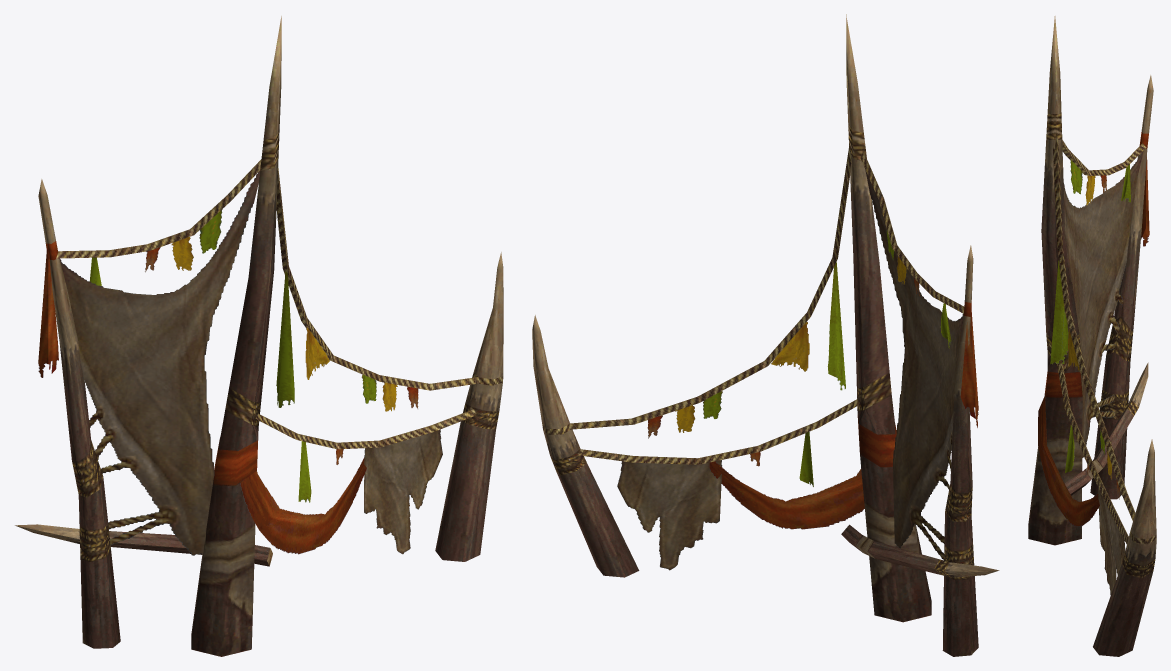
The model's file is 7001_Item_wujian_01.FBX.
The picture shows the model from 3 angles, left to right: view 1: azimuth 30°, elevation 25°; view 2: azimuth 150°, elevation 25°; view 3: azimuth 270°, elevation 25°; orthographic projection. The views are drawn at different scales.
Parts seen in each view (by area): view 1: 7001_Item_wujian_01; view 2: 7001_Item_wujian_01; view 3: 7001_Item_wujian_01.
Part boxes in pixels (bbox=[...]): 7001_Item_wujian_01: bbox=[15, 16, 503, 656]; 7001_Item_wujian_01: bbox=[532, 14, 999, 656]; 7001_Item_wujian_01: bbox=[1028, 16, 1156, 656].
Bounding box in the file's own units: 120 × 143 × 30.56.
